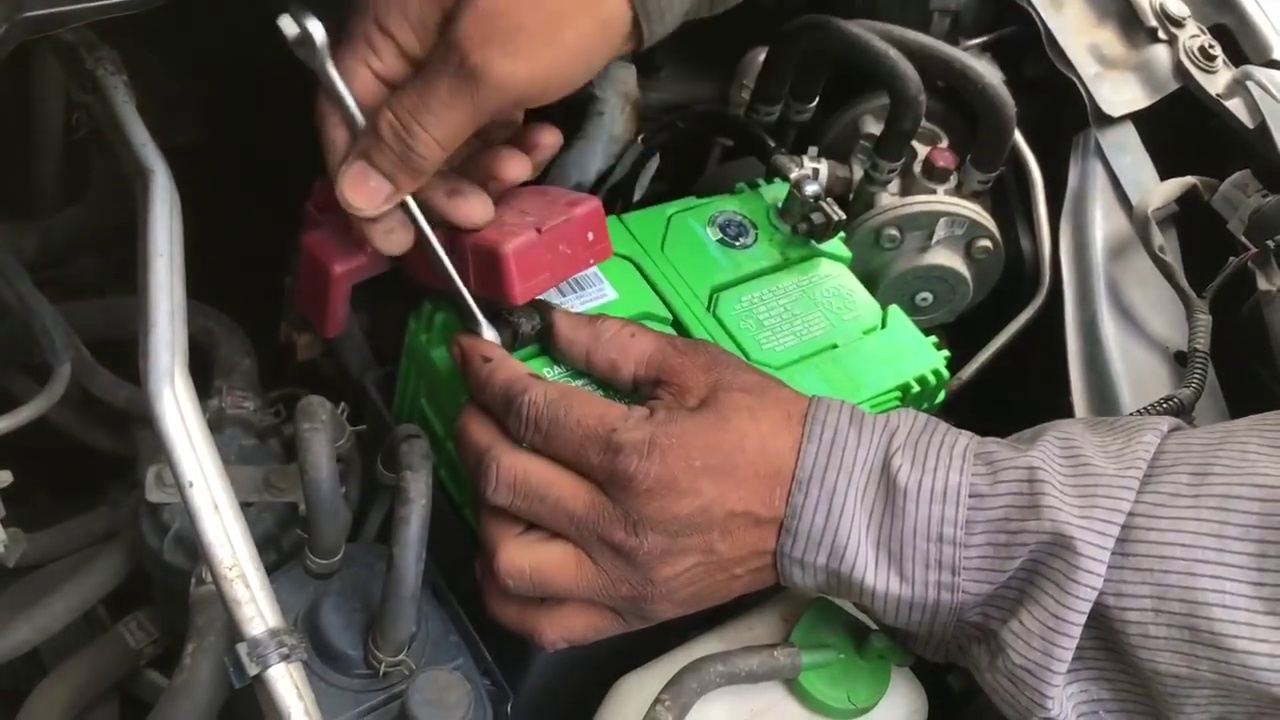battery: (412, 167, 940, 455)
neg_connected: (765, 149, 842, 243)
pos_touched: (425, 186, 614, 454)
